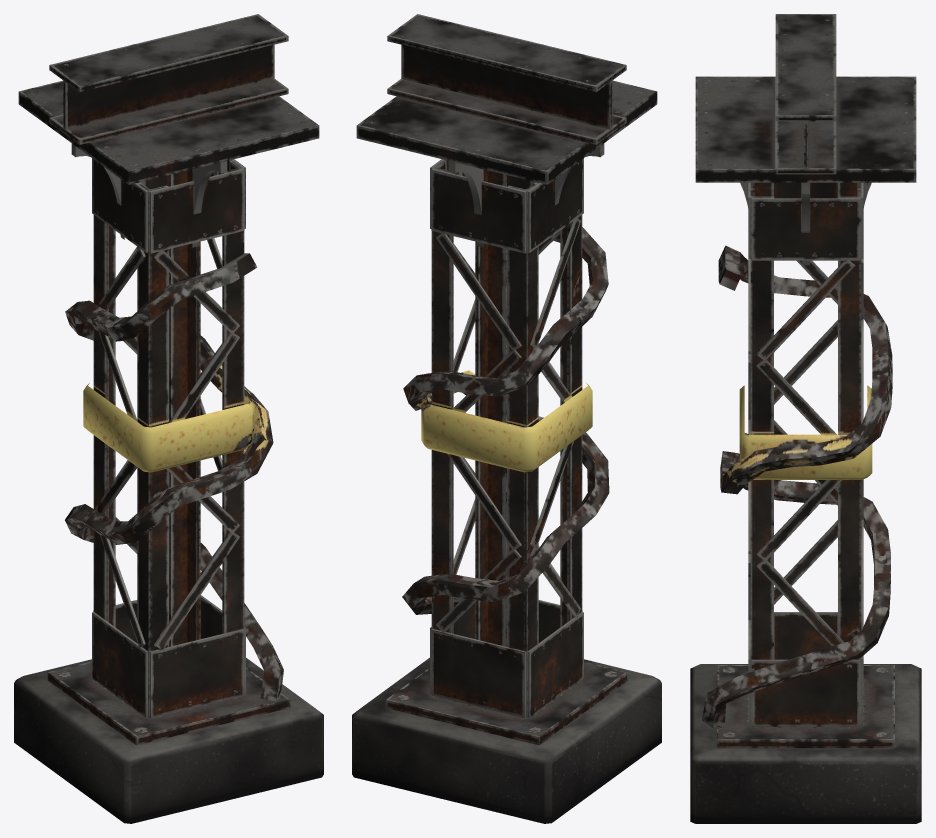
The model's file is foundry_pillar.glb.
The picture shows the model from 3 angles, left to right: view 1: azimuth 30°, elevation 25°; view 2: azimuth 150°, elevation 25°; view 3: azimuth 270°, elevation 25°; orthographic projection.
Visible parts, largest first — view 1: foundry_pillar; view 2: foundry_pillar; view 3: foundry_pillar.
Part boxes in pixels (<box>): foundry_pillar: <box>14,14,323,823</box>; foundry_pillar: <box>352,14,661,823</box>; foundry_pillar: <box>690,14,921,823</box>.
Size of the model in its own units: 1.36 by 4.4 by 1.3.
Materials: 1 (1 with a texture image).
